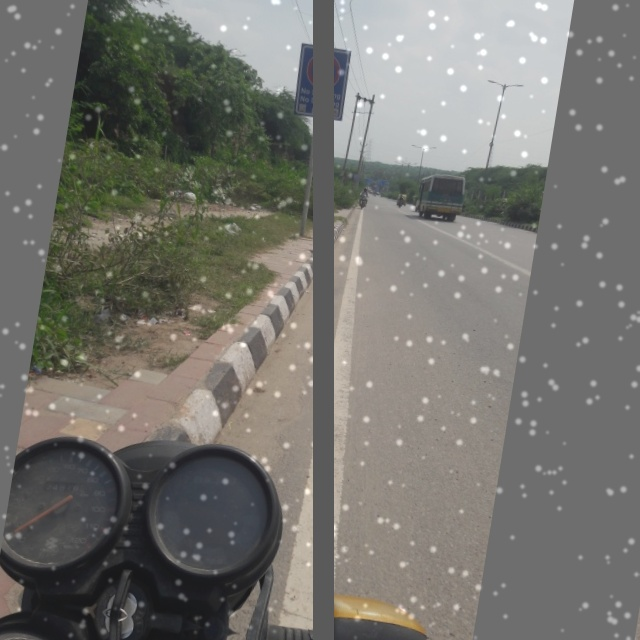No_Stopping_or_Standing: (296, 42, 349, 98)
